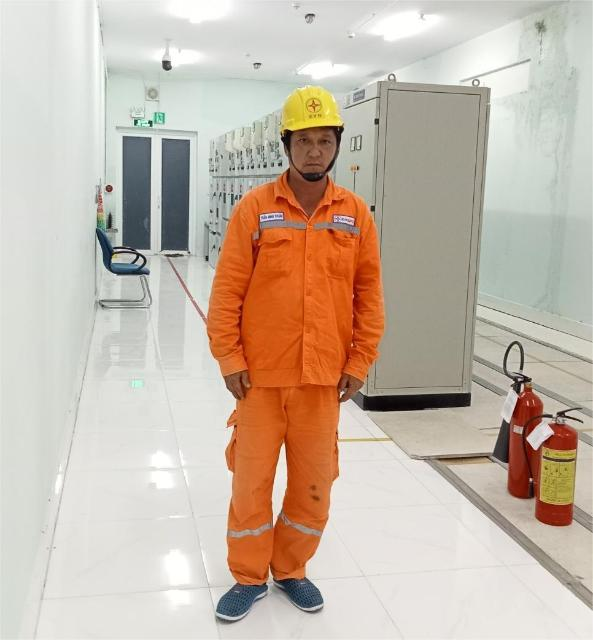helmet: (273, 75, 351, 139)
shoes: (202, 564, 278, 624), (268, 558, 349, 613)
